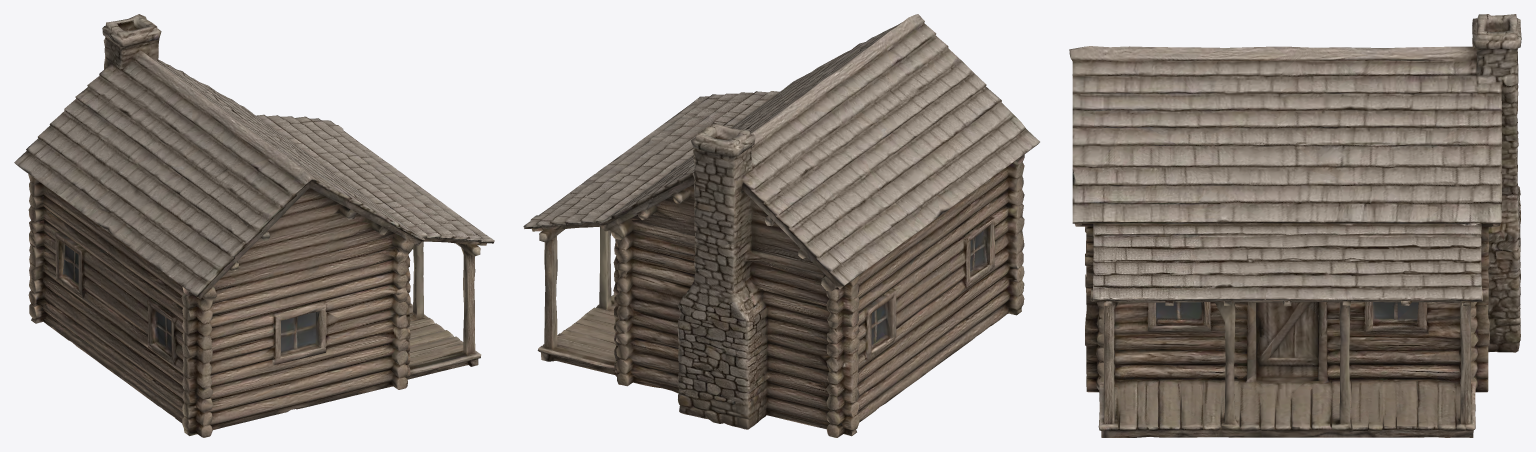
File: cabana.glb
The picture shows the model from 3 angles, left to right: view 1: azimuth 30°, elevation 25°; view 2: azimuth 150°, elevation 25°; view 3: azimuth 270°, elevation 25°; orthographic projection. The views are drawn at different scales.
Visible parts, largest first — view 1: tripo_node_697b5b63-b5f9-43bd-ae47-309f7d554751; view 2: tripo_node_697b5b63-b5f9-43bd-ae47-309f7d554751; view 3: tripo_node_697b5b63-b5f9-43bd-ae47-309f7d554751.
Part boxes in pixels (bbox=[...]): tripo_node_697b5b63-b5f9-43bd-ae47-309f7d554751: bbox=[14, 14, 494, 437]; tripo_node_697b5b63-b5f9-43bd-ae47-309f7d554751: bbox=[523, 14, 1039, 437]; tripo_node_697b5b63-b5f9-43bd-ae47-309f7d554751: bbox=[1069, 14, 1521, 437].
Size of the model in its own units: 0.9318 by 0.758 by 1.
Materials: 1 (1 with a texture image).
